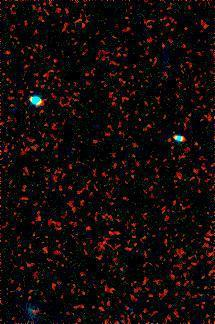star: (176, 129, 206, 159)
